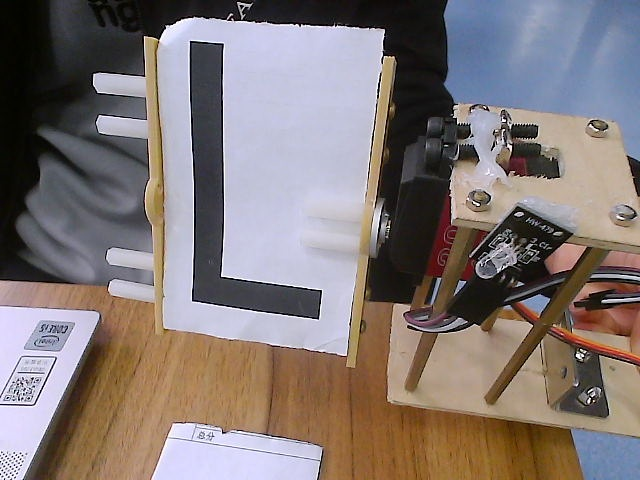L: (81, 8, 426, 366)
